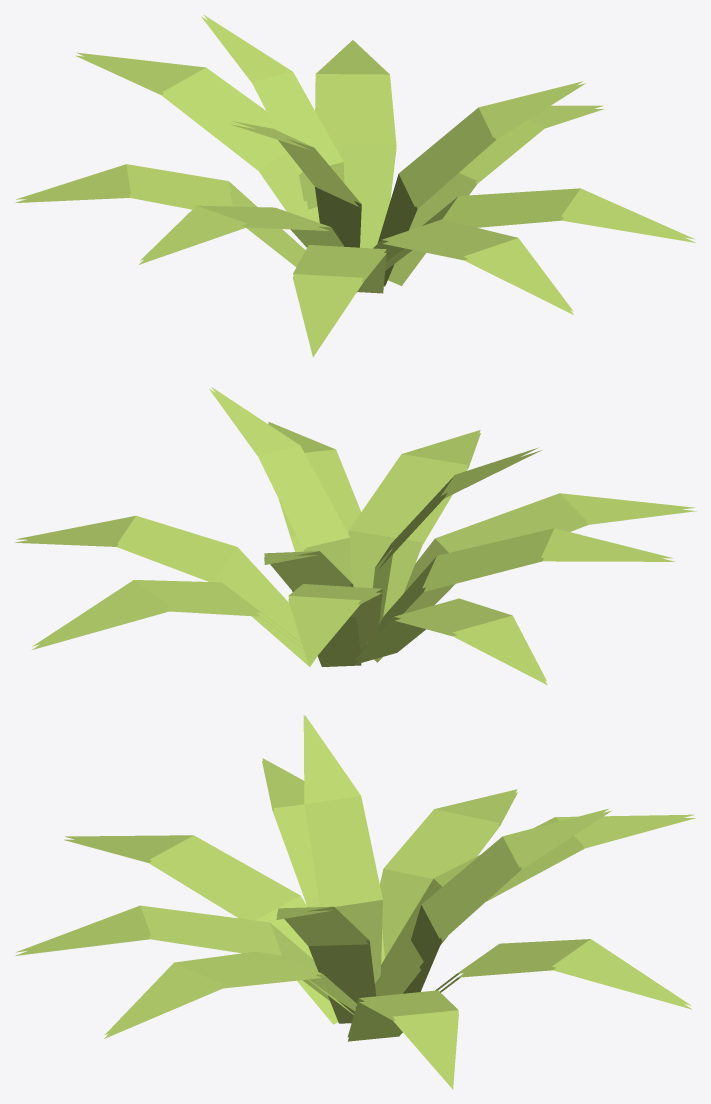
File: Plant2_tex.fbx
3 renders of one model, top to bottom at view 1: azimuth 30°, elevation 25°; view 2: azimuth 150°, elevation 25°; view 3: azimuth 270°, elevation 25°, orthographic.
Visible parts, largest first — view 1: Plant2_tex; view 2: Plant2_tex; view 3: Plant2_tex.
Boxes of the visible parts, bbox=[...] form: Plant2_tex: bbox=[14, 15, 695, 357]; Plant2_tex: bbox=[15, 387, 696, 684]; Plant2_tex: bbox=[15, 715, 695, 1089].
Size of the model in its own units: 1.49 by 0.5799 by 1.54.
